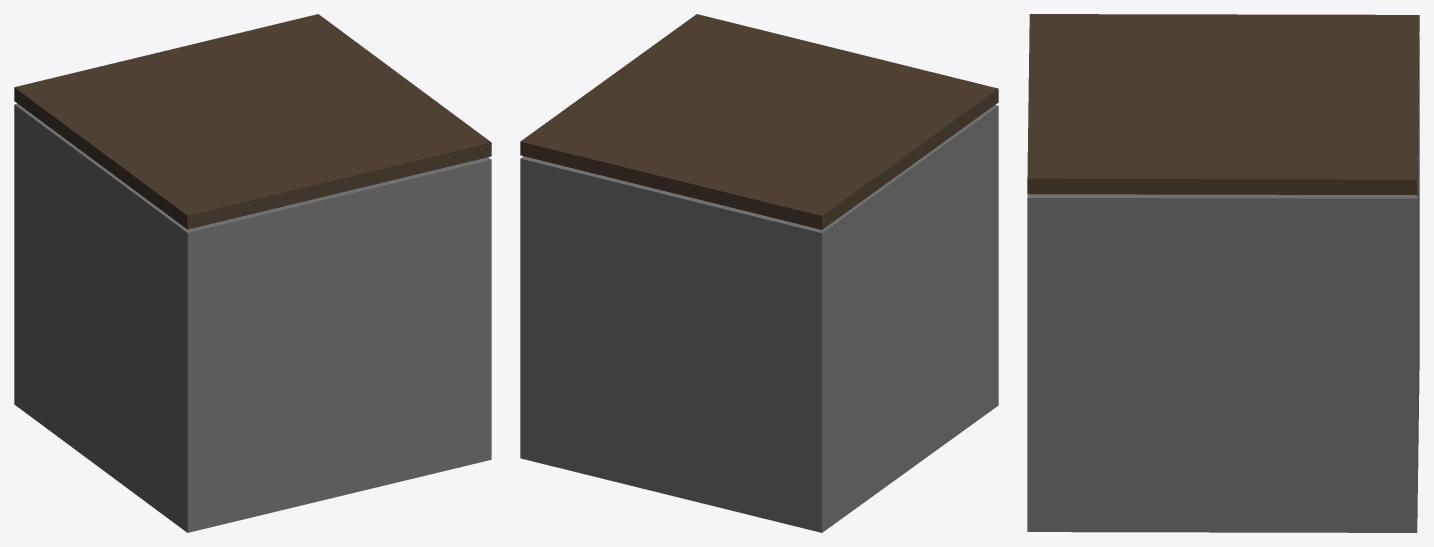
File: CabinetBase.fbx
The picture shows the model from 3 angles, left to right: view 1: azimuth 30°, elevation 25°; view 2: azimuth 150°, elevation 25°; view 3: azimuth 270°, elevation 25°; orthographic projection. The views are drawn at different scales.
Parts seen in each view (by area): view 1: Cube; view 2: Cube; view 3: Cube.
Boxes of the visible parts, left/top/right/bottom form: Cube: left=14, top=14, right=491, bottom=532; Cube: left=520, top=14, right=998, bottom=532; Cube: left=1027, top=14, right=1419, bottom=532.
Size of the model in its own units: 101 by 100 by 101.
